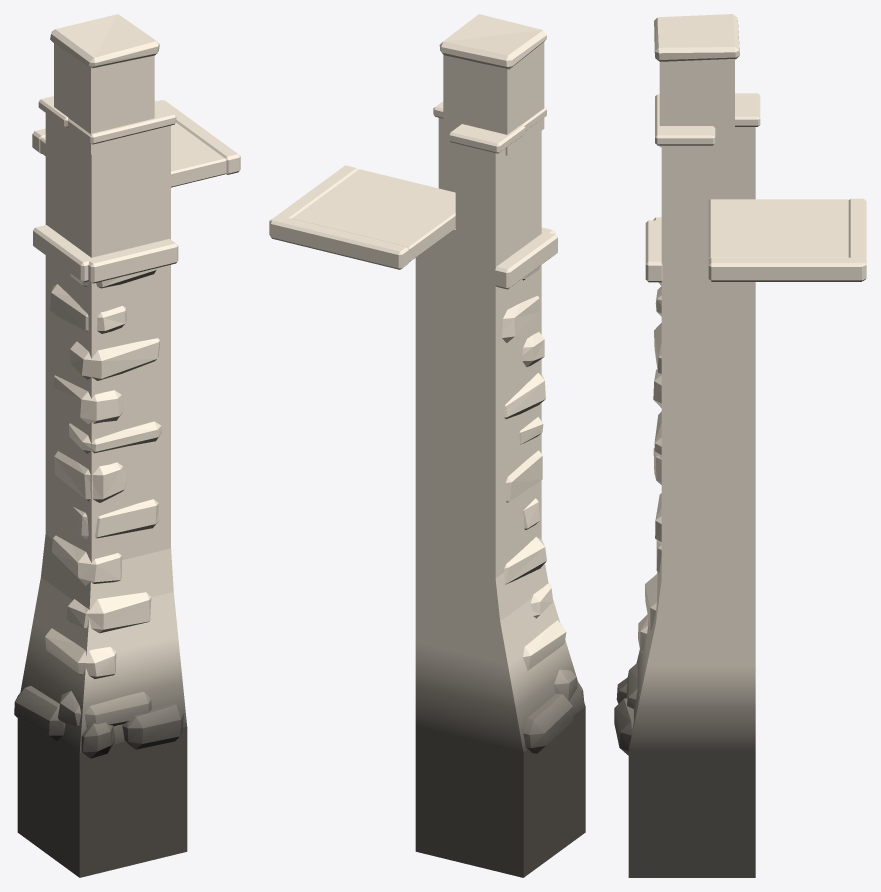
The model's file is SM_VK_TownWall_Corner_Out.fbx.
3 renders of one model, left to right at view 1: azimuth 30°, elevation 25°; view 2: azimuth 150°, elevation 25°; view 3: azimuth 270°, elevation 25°, orthographic. The views are drawn at different scales.
Parts seen in each view (by area): view 1: SM_VK_TownWall_Corner_Out.001; view 2: SM_VK_TownWall_Corner_Out.001; view 3: SM_VK_TownWall_Corner_Out.001.
Boxes of the visible parts, left/top/right/bottom form: SM_VK_TownWall_Corner_Out.001: left=14, top=14, right=240, bottom=877; SM_VK_TownWall_Corner_Out.001: left=269, top=14, right=585, bottom=877; SM_VK_TownWall_Corner_Out.001: left=614, top=14, right=866, bottom=877.
Size of the model in its own units: 2.69 by 9.66 by 2.68.
